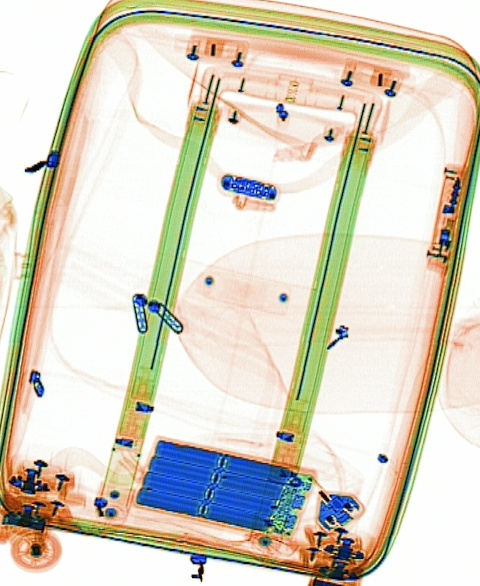powerbank: (134, 434, 318, 537)
